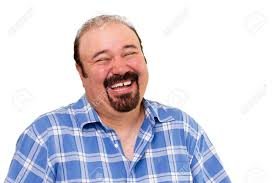white_male: (69, 30, 156, 108)
